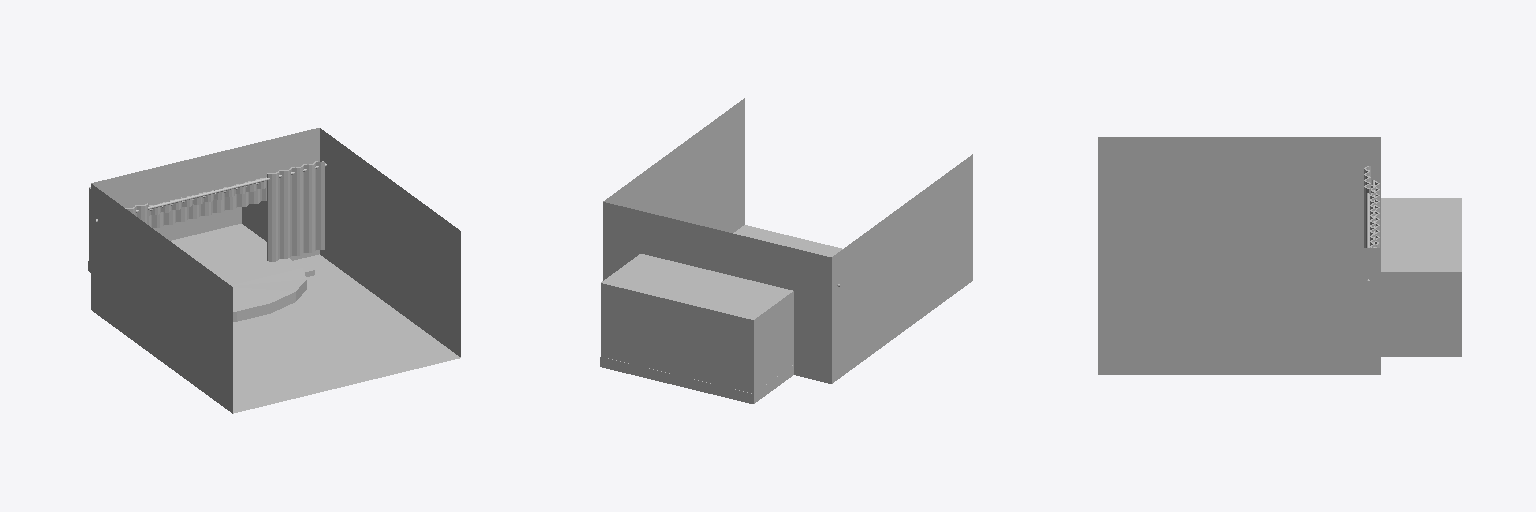
The model's file is THEATRE_3.obj.
The picture shows the model from 3 angles: view 1: azimuth 30°, elevation 25°; view 2: azimuth 150°, elevation 25°; view 3: azimuth 270°, elevation 25°; orthographic projection.
Parts seen in each view (by area): view 1: THEATRE Walls1, Stage THEATRE, THEATRE Curtains Right_curtain Curtains_1, THEATRE Curtains Curtains_3, THEATRE Curtains_2 Curtains; view 2: THEATRE Walls1, Stage THEATRE; view 3: THEATRE Walls1, Stage THEATRE.
Boxes of the visible parts, box(x1,y1,x2,y2) form: THEATRE Walls1: box(89, 128, 460, 413); Stage THEATRE: box(88, 224, 306, 321); THEATRE Curtains Right_curtain Curtains_1: box(267, 161, 324, 261); THEATRE Curtains Curtains_3: box(149, 178, 266, 227); THEATRE Curtains_2 Curtains: box(149, 177, 266, 215); THEATRE Walls1: box(601, 98, 972, 393); Stage THEATRE: box(600, 357, 793, 403); THEATRE Walls1: box(1098, 137, 1461, 374); Stage THEATRE: box(1381, 346, 1461, 356).
Size of the model in its own units: 46.37 by 24.15 by 62.75.